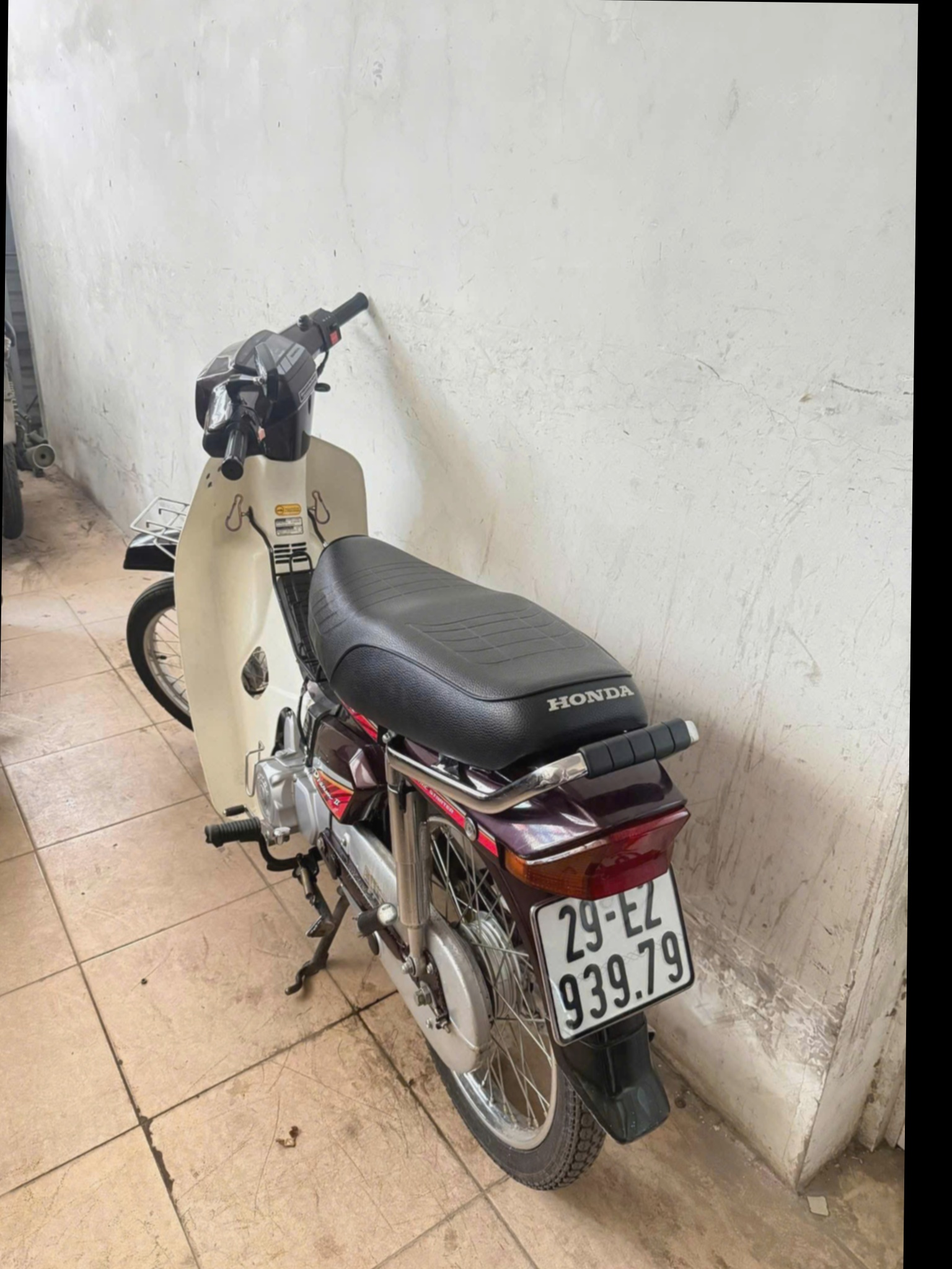Bien-so: (540, 825, 726, 1020)
